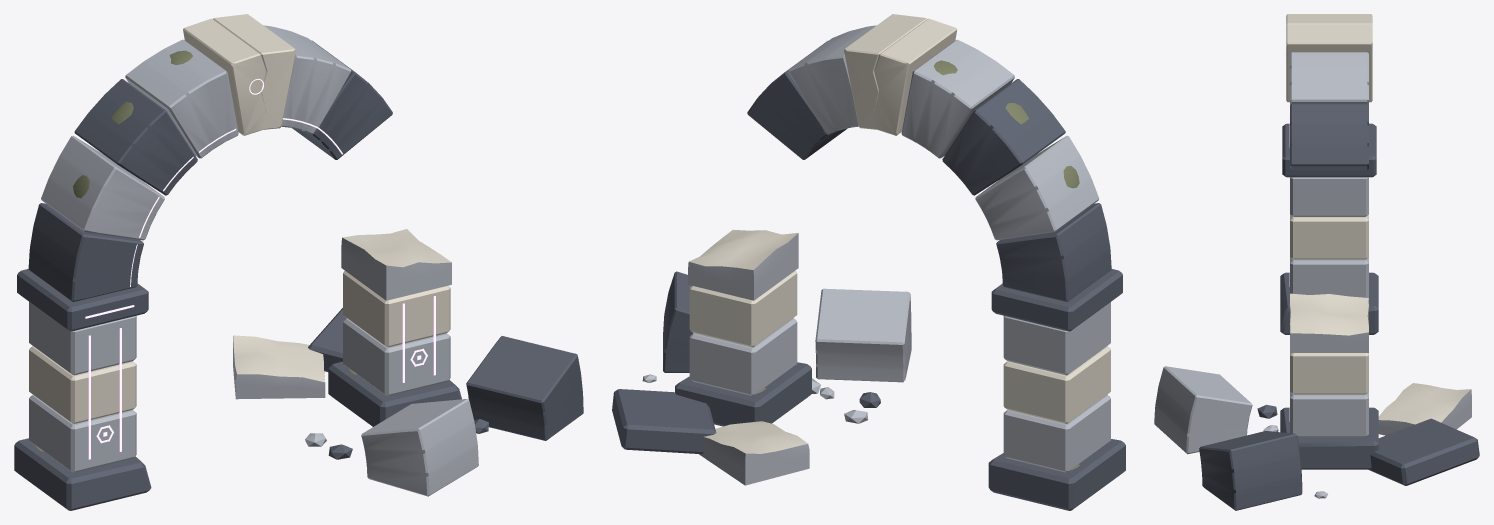
Rendered from deco_ruin_arch.fbx.
3 renders of one model, left to right at view 1: azimuth 30°, elevation 25°; view 2: azimuth 150°, elevation 25°; view 3: azimuth 270°, elevation 25°, orthographic. The views are drawn at different scales.
Parts seen in each view (by area): view 1: RuinArch_Arch, RuinArch_Rubble, RuinArch_PierL, RuinArch_PierR; view 2: RuinArch_Arch, RuinArch_PierL, RuinArch_Rubble, RuinArch_PierR; view 3: RuinArch_Rubble, RuinArch_PierR, RuinArch_Arch, RuinArch_PierL.
Boxes of the visible parts, left/top/right/bottom form: RuinArch_Arch: left=28, top=14, right=392, bottom=301; RuinArch_Rubble: left=233, top=308, right=583, bottom=496; RuinArch_PierL: left=14, top=269, right=151, bottom=510; RuinArch_PierR: left=328, top=229, right=461, bottom=426; RuinArch_Arch: left=747, top=14, right=1111, bottom=301; RuinArch_PierL: left=988, top=269, right=1125, bottom=510; RuinArch_Rubble: left=612, top=271, right=911, bottom=485; RuinArch_PierR: left=675, top=229, right=811, bottom=426; RuinArch_Rubble: left=1154, top=366, right=1479, bottom=510; RuinArch_PierR: left=1280, top=293, right=1378, bottom=469; RuinArch_Arch: left=1286, top=14, right=1372, bottom=170; RuinArch_PierL: left=1280, top=123, right=1378, bottom=334.
Bounding box in the file's own units: 632 × 511 × 414.
